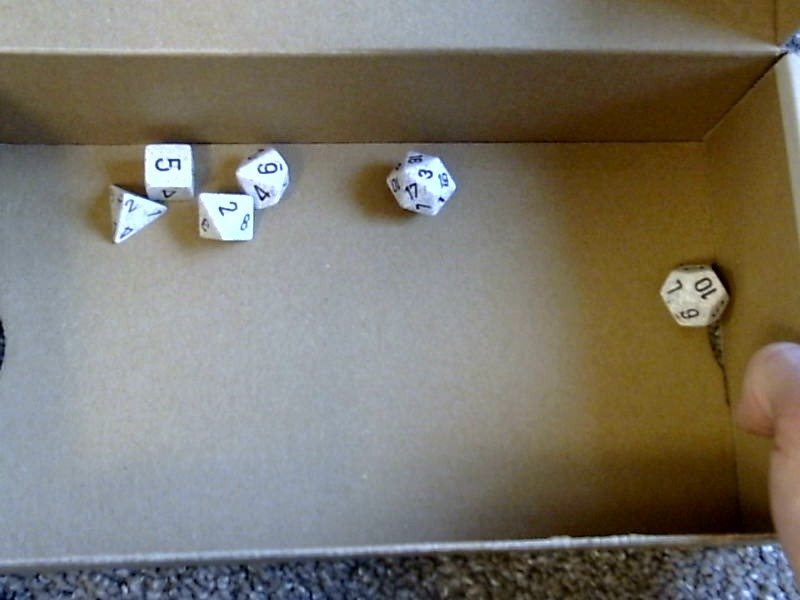d10 6: (236, 139, 302, 208)
d12 10: (650, 256, 740, 336)
d20 3: (377, 143, 463, 226)
d4 2: (96, 185, 166, 245)
d6 5: (140, 139, 200, 203)
d8 2: (192, 190, 255, 255)
